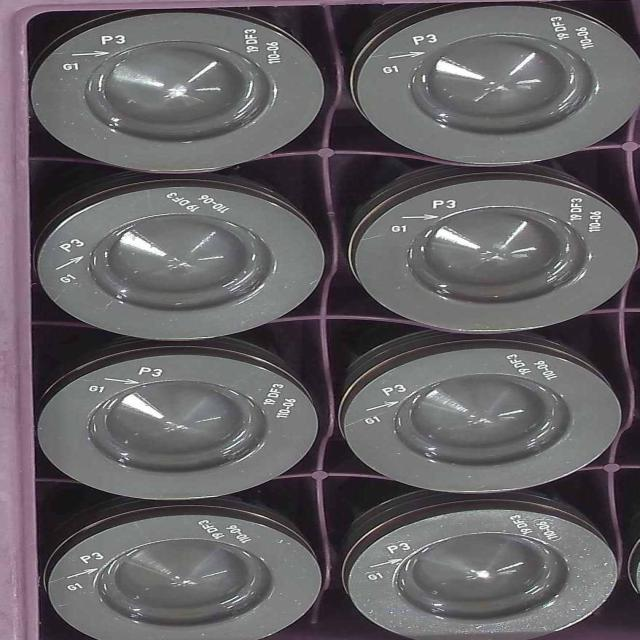P3: (344, 179, 640, 338), (352, 4, 640, 167), (34, 180, 333, 334), (44, 347, 332, 501), (37, 22, 331, 172), (345, 348, 622, 496), (349, 501, 639, 638), (46, 510, 340, 640)
